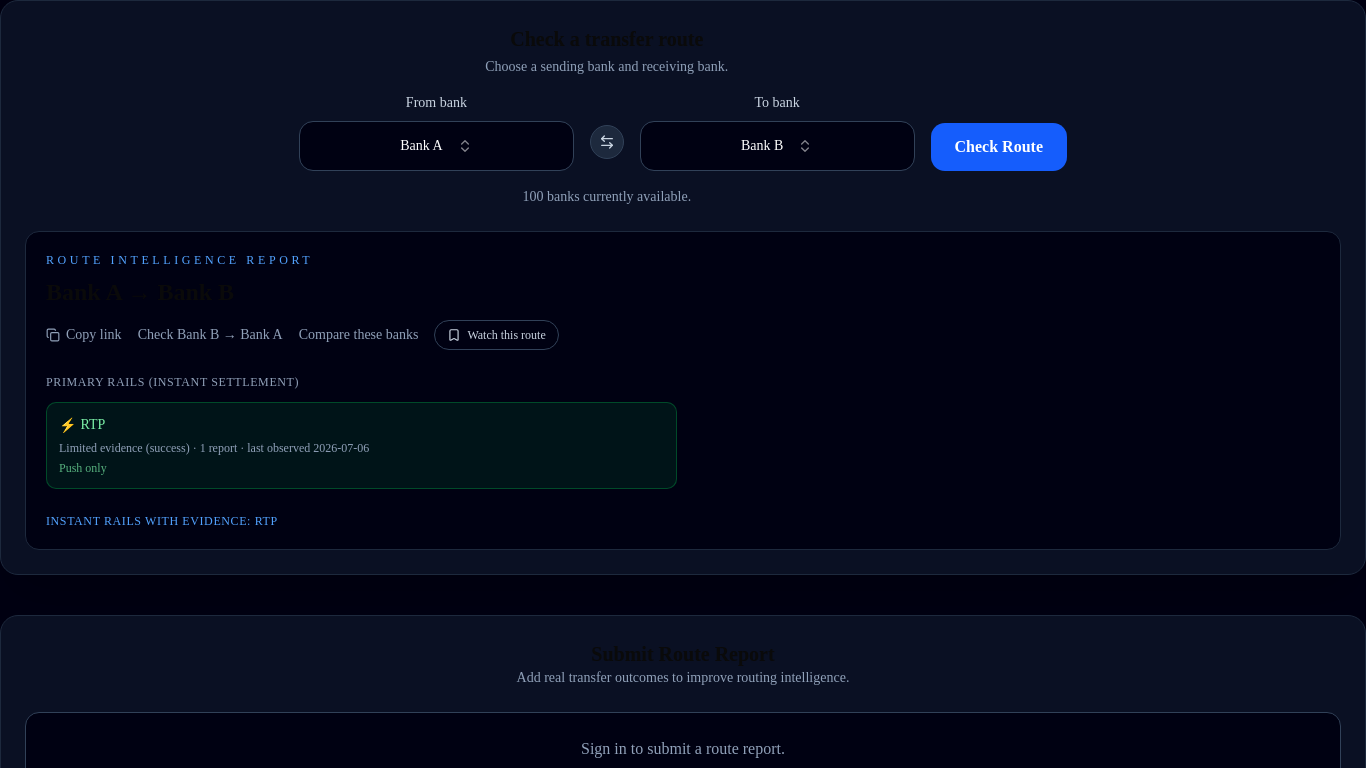
Test: HomeRouteChecker — swap, copy link, reverse check, compare › copies the shareable route URL to the clipboard and shows 'Copied' feedback
This screenshot has width=1366, height=768.
Expected: the text "Limited evidence" is shown, x1=59 y1=441 x2=143 y2=455
Click the button "Copy link". click: x=84, y=335
box: x1=46 y1=325 x2=122 y2=345
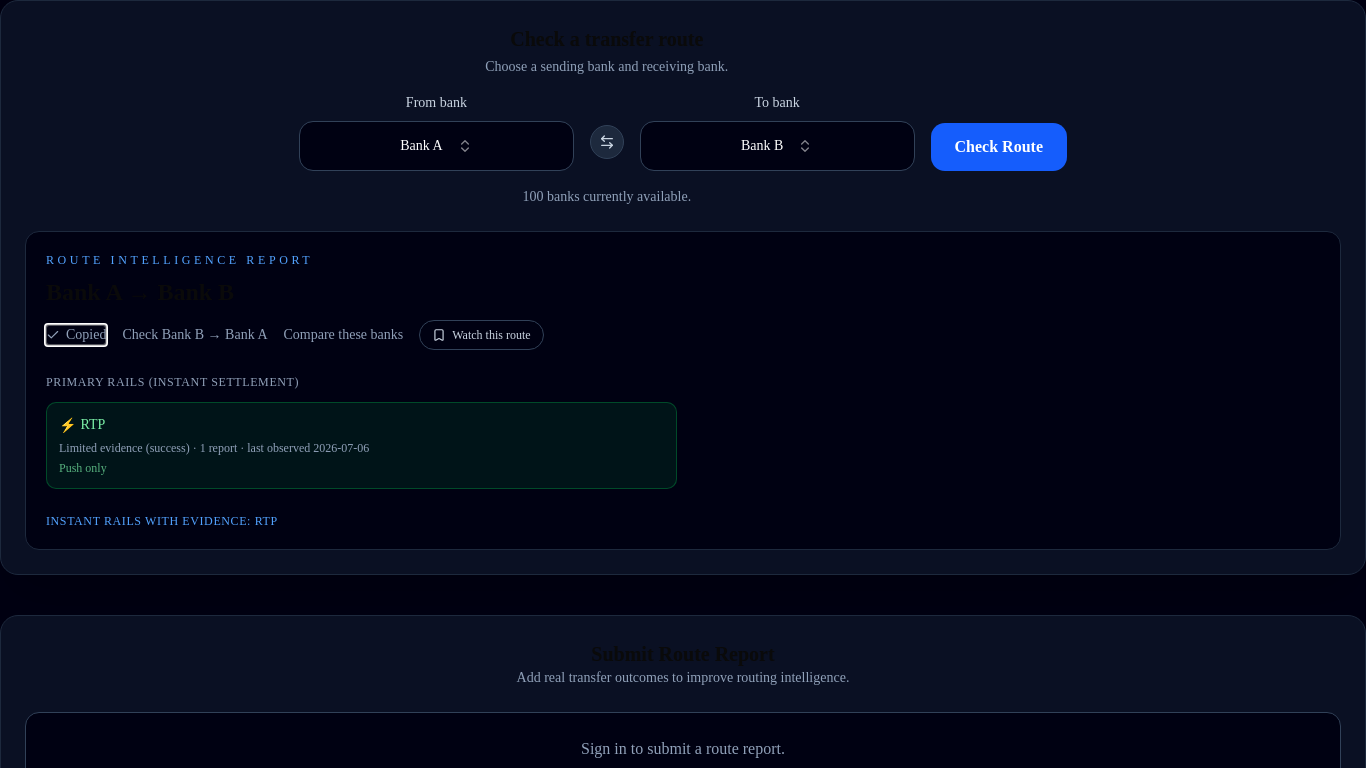
Now the button "Copied" is shown, box x1=46 y1=325 x2=106 y2=345
